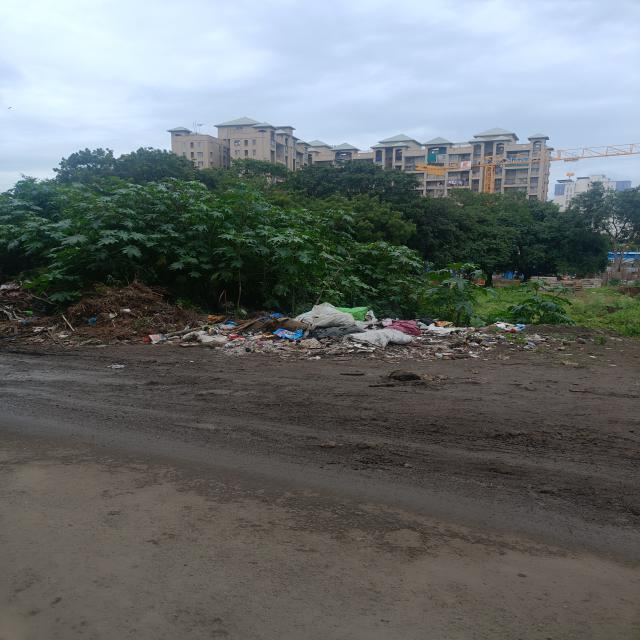garbage: (6, 274, 178, 346), (190, 306, 459, 351)
